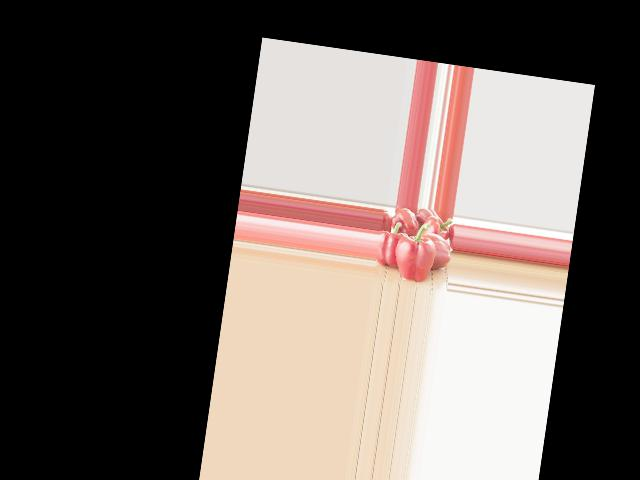bell_pepper: (421, 214, 454, 242)
